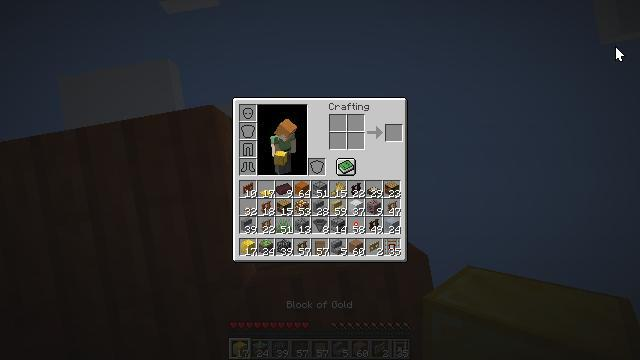cursor: (615, 46, 625, 62)
